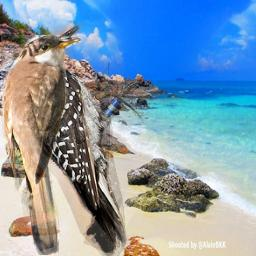Cuckoo: (1, 35, 81, 255)
Woodpecker: (5, 17, 159, 256)
